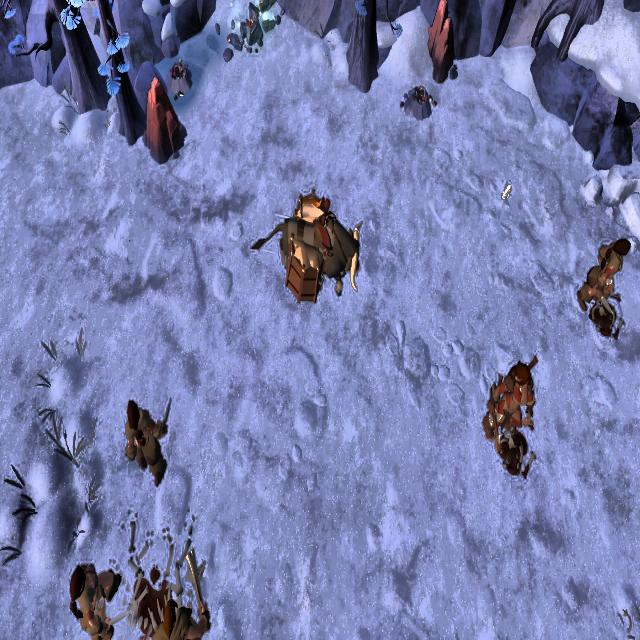enemy_factionKeeper: (484, 347, 538, 453), (576, 223, 630, 314), (68, 555, 122, 640), (121, 396, 170, 488)
rock_t5: (141, 82, 187, 160), (424, 0, 459, 84)
